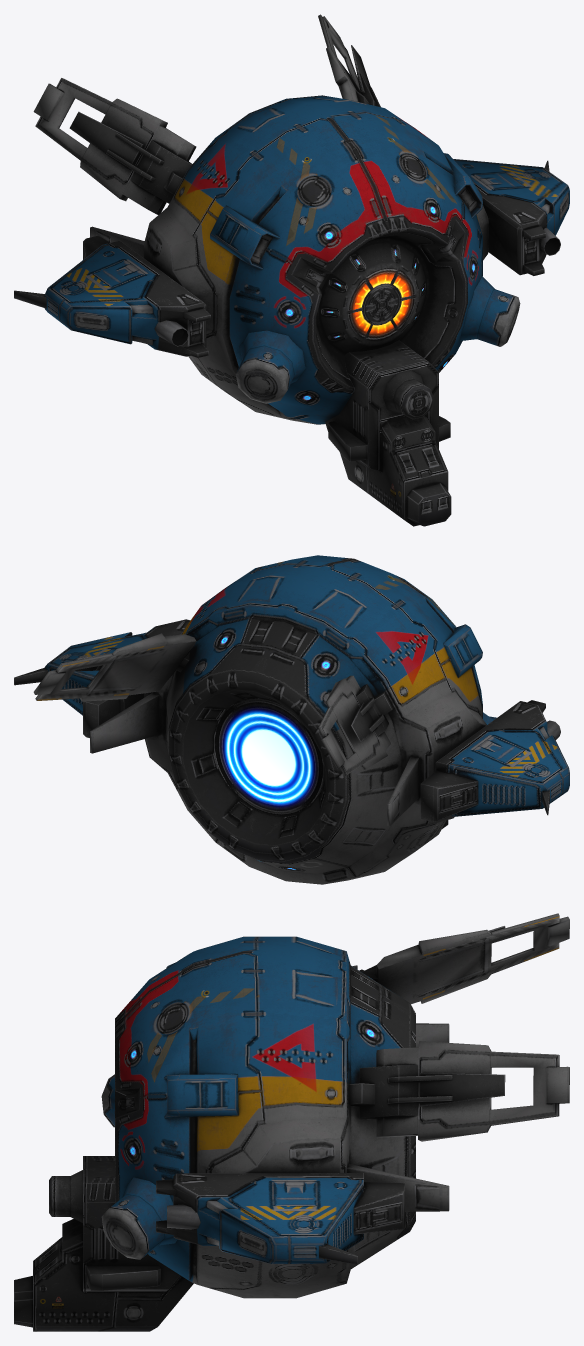
File: robot.glb
3 views of the same model, one above another, from view 1: azimuth 30°, elevation 25°; view 2: azimuth 150°, elevation 25°; view 3: azimuth 270°, elevation 25° (orthographic). The views are drawn at different scales.
Visible parts, largest first — view 1: SF_Drone_ZR7_geometry; view 2: SF_Drone_ZR7_geometry; view 3: SF_Drone_ZR7_geometry.
Part boxes in pixels (bbox=[...]): SF_Drone_ZR7_geometry: bbox=[14, 14, 569, 526]; SF_Drone_ZR7_geometry: bbox=[14, 555, 569, 884]; SF_Drone_ZR7_geometry: bbox=[14, 913, 569, 1331].
Bounding box in the file's own units: 5.67 × 3.39 × 4.58.
1 material, 1 textured.
